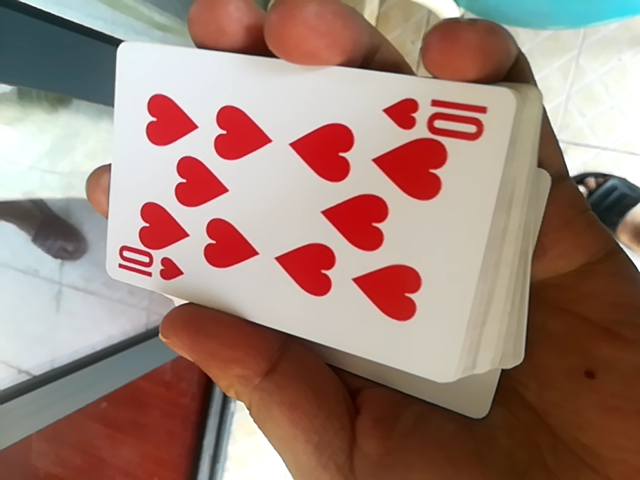hx 10: (87, 41, 483, 403)
